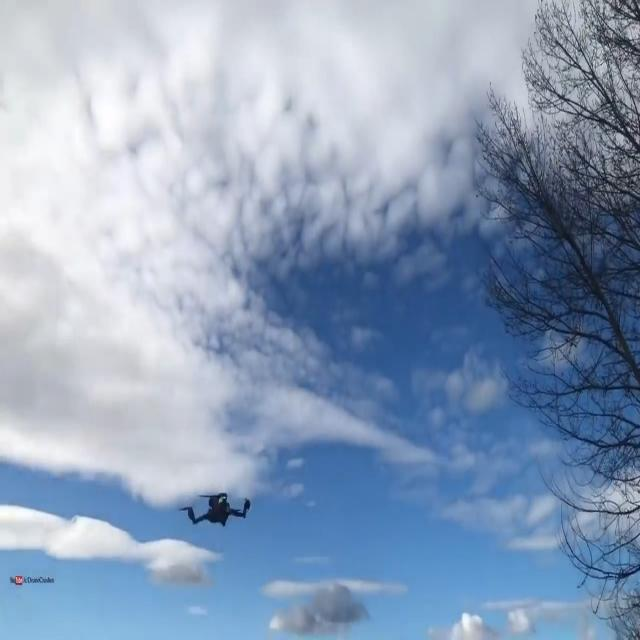Vehicle: (180, 480, 252, 545)
